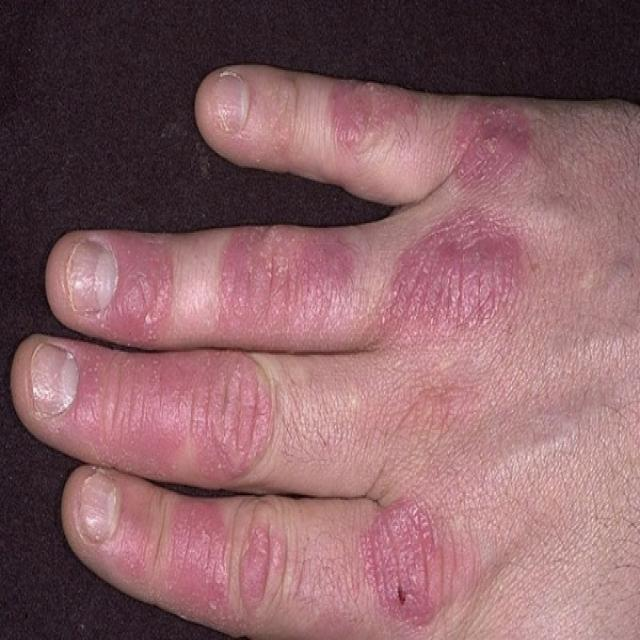Psoriasis Pustulosa: (13, 67, 639, 638)
